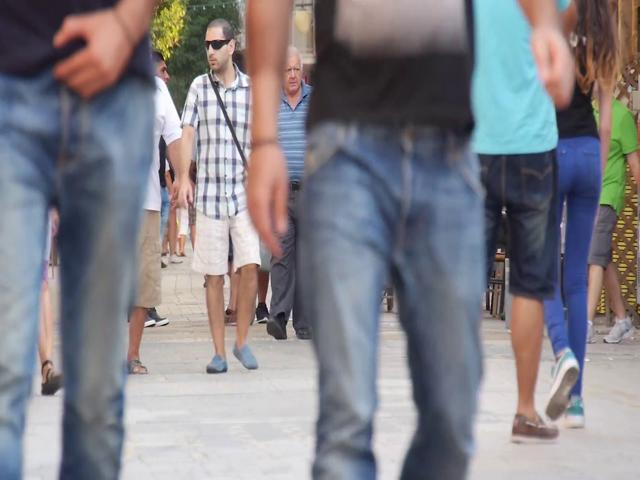shoe: (546, 347, 580, 419), (511, 413, 558, 443), (603, 319, 633, 343), (41, 361, 62, 395), (232, 343, 258, 369), (565, 397, 585, 428), (266, 317, 287, 340), (128, 356, 148, 375), (206, 355, 227, 373)
